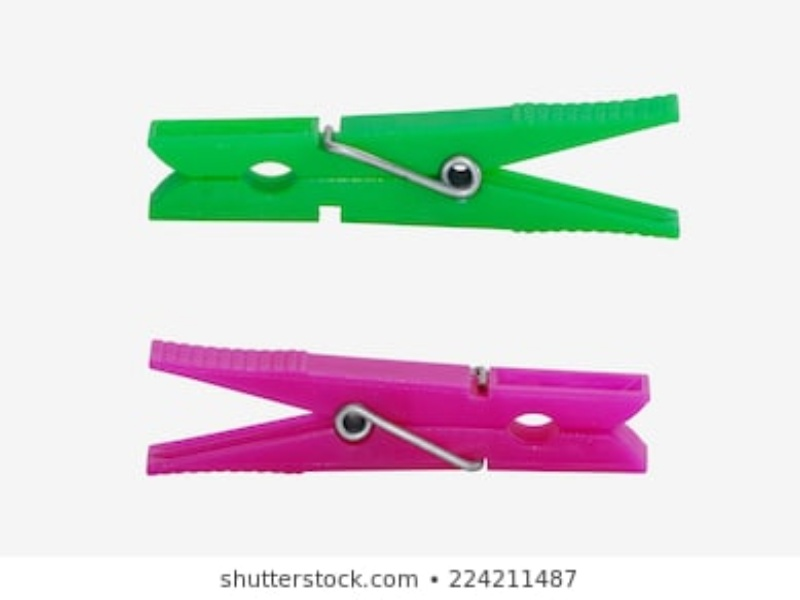plastic-peg: (141, 90, 683, 234), (144, 340, 654, 478)
